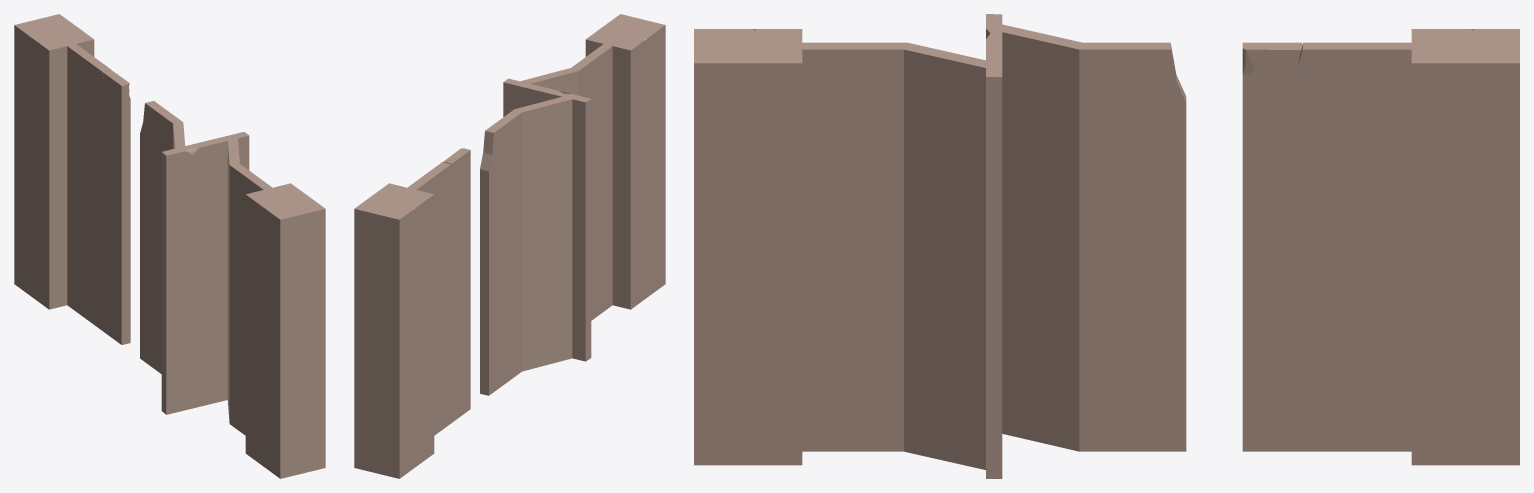
The model's file is Nivel4.fbx.
The picture shows the model from 3 angles, left to right: view 1: azimuth 30°, elevation 25°; view 2: azimuth 150°, elevation 25°; view 3: azimuth 270°, elevation 25°; orthographic projection. The views are drawn at different scales.
Visible parts, largest first — view 1: Plataforma-M.002, Cubo.018, Plataforma-M.003, Cubo.017, Cubo.014, Cubo.011, Caida, Cubo.012; view 2: Plataforma-M.003, Plataforma-M.002, Cubo.013, Cubo.014, Cubo.017, Cubo.018, Cubo.011, Caida, Cubo.012; view 3: Cubo.017, Plataforma-M.003, Plataforma-M.002, Cubo.014, Cubo.011, Cubo.012, Cubo.013, Cubo.018, Caida.
Boxes of the visible parts, x1=… form: Plataforma-M.002: x1=245, y1=183, x2=325, y2=478; Cubo.018: x1=161, y1=132, x2=249, y2=414; Plataforma-M.003: x1=14, y1=14, x2=94, y2=309; Cubo.017: x1=67, y1=44, x2=130, y2=344; Cubo.014: x1=140, y1=101, x2=182, y2=373; Cubo.011: x1=229, y1=164, x2=272, y2=435; Caida: x1=102, y1=70, x2=130, y2=231; Cubo.012: x1=227, y1=135, x2=239, y2=422; Plataforma-M.003: x1=354, y1=183, x2=434, y2=478; Plataforma-M.002: x1=585, y1=14, x2=665, y2=309; Cubo.013: x1=515, y1=95, x2=577, y2=371; Cubo.014: x1=480, y1=109, x2=522, y2=395; Cubo.017: x1=407, y1=162, x2=470, y2=435; Cubo.018: x1=503, y1=78, x2=591, y2=361; Cubo.011: x1=571, y1=43, x2=612, y2=320; Caida: x1=443, y1=148, x2=470, y2=293; Cubo.012: x1=515, y1=67, x2=578, y2=95; Cubo.017: x1=1242, y1=42, x2=1411, y2=451; Plataforma-M.003: x1=1411, y1=29, x2=1519, y2=465; Plataforma-M.002: x1=694, y1=29, x2=802, y2=465; Cubo.014: x1=1079, y1=42, x2=1186, y2=451; Cubo.011: x1=801, y1=42, x2=907, y2=451; Cubo.012: x1=900, y1=43, x2=1001, y2=469; Cubo.013: x1=989, y1=22, x2=1081, y2=451; Cubo.018: x1=986, y1=14, x2=1002, y2=478; Caida: x1=1242, y1=42, x2=1301, y2=272.
Bounding box in the file's own units: 2231 × 6652 × 12381.
